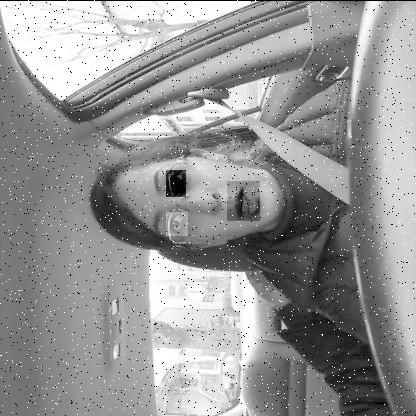seatbelt: (86, 122, 416, 274)
